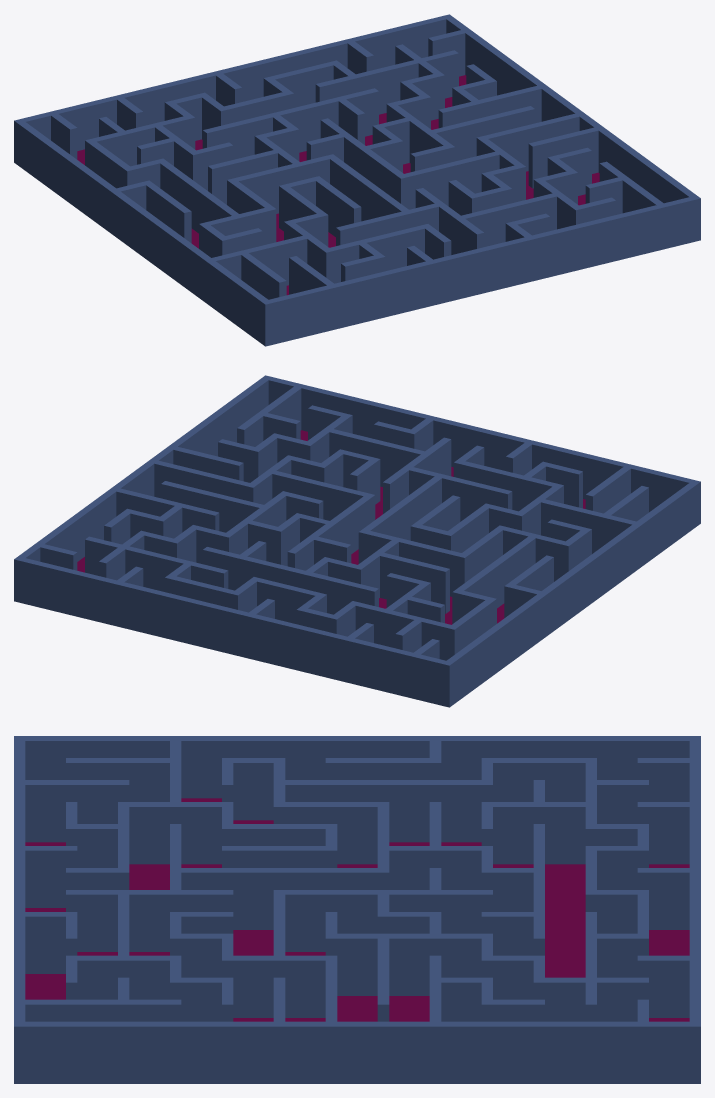
File: Level33Ground.FBX
3 renders of one model, top to bottom at view 1: azimuth 30°, elevation 25°; view 2: azimuth 150°, elevation 25°; view 3: azimuth 270°, elevation 25°, orthographic. The views are drawn at different scales.
Visible parts, largest first — view 1: pPlane2; view 2: pPlane2; view 3: pPlane2.
Part boxes in pixels (left/top/right/bottom): pPlane2: left=14, top=14, right=700, bottom=346; pPlane2: left=14, top=375, right=700, bottom=707; pPlane2: left=14, top=736, right=700, bottom=1083.
Size of the model in its own units: 304 by 28 by 304.
